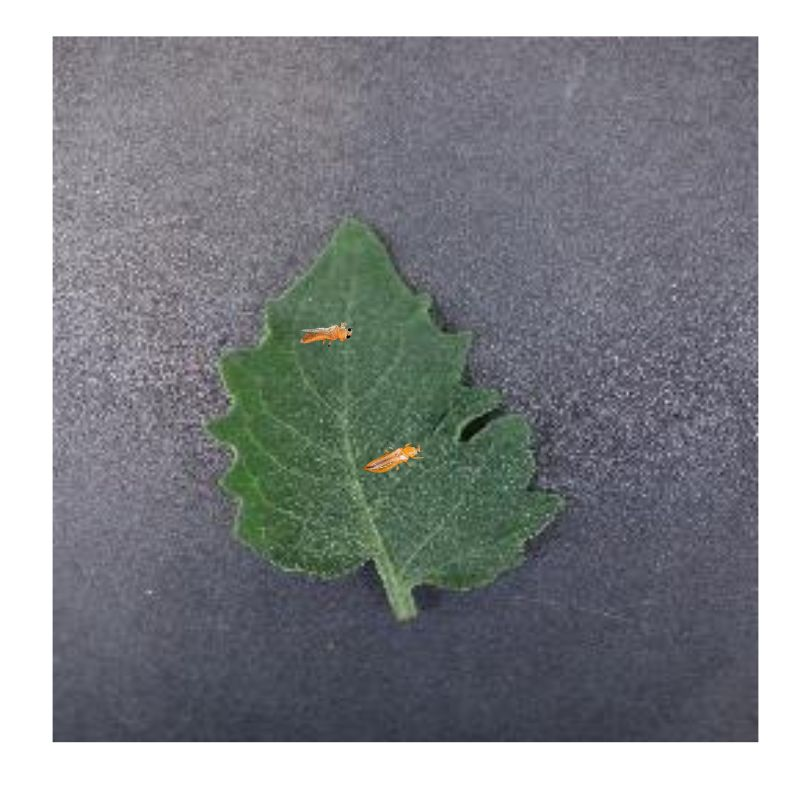thrips: (363, 439, 422, 476), (295, 322, 355, 346)
